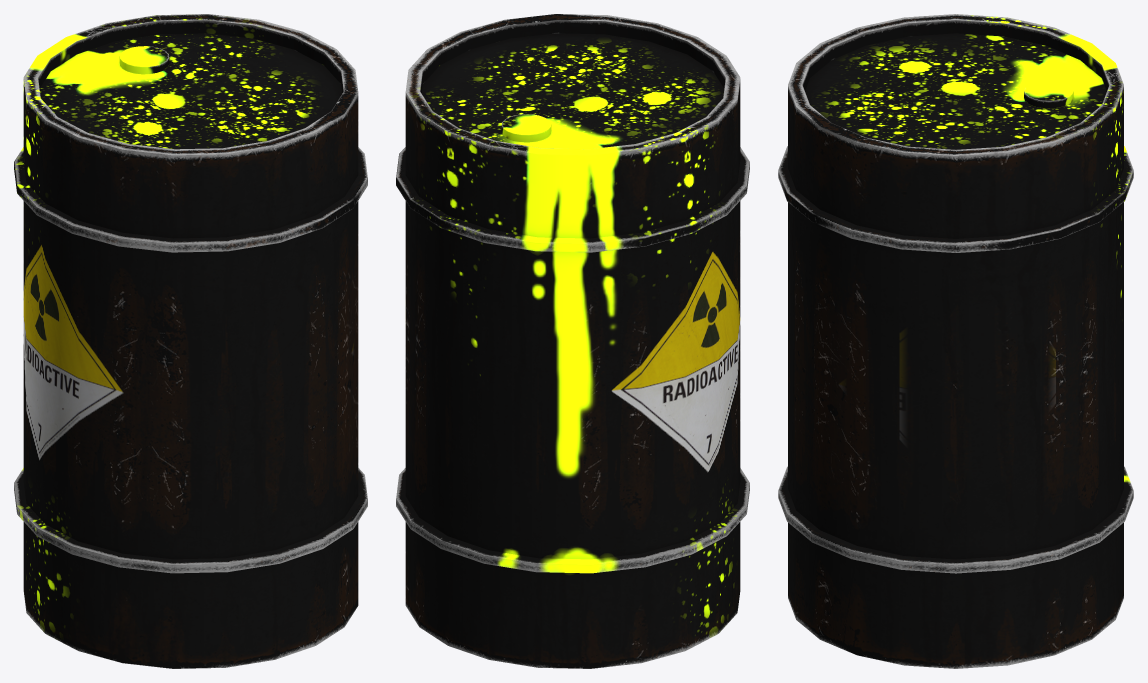
The model's file is metal_barrel.glb.
3 renders of one model, left to right at view 1: azimuth 30°, elevation 25°; view 2: azimuth 150°, elevation 25°; view 3: azimuth 270°, elevation 25°, orthographic.
Parts seen in each view (by area): view 1: Object_2; view 2: Object_2; view 3: Object_2.
Part boxes in pixels (<box>): Object_2: <box>14,14,367,668</box>; Object_2: <box>396,14,749,668</box>; Object_2: <box>778,14,1133,668</box>.
Bounding box in the file's own units: 36.8 × 58.64 × 36.8.
1 material, 1 textured.
